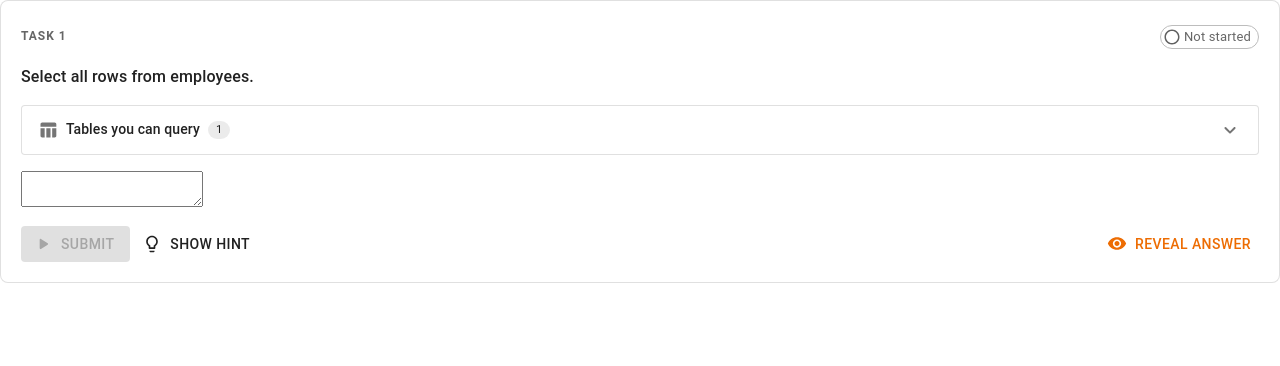
Test case: TaskCard — hint › toggles the hint text
expect the text "Use SELECT * FROM employees." is not shown: met
Click the button "Show hint": (198, 244) 138,226 -> 258,262
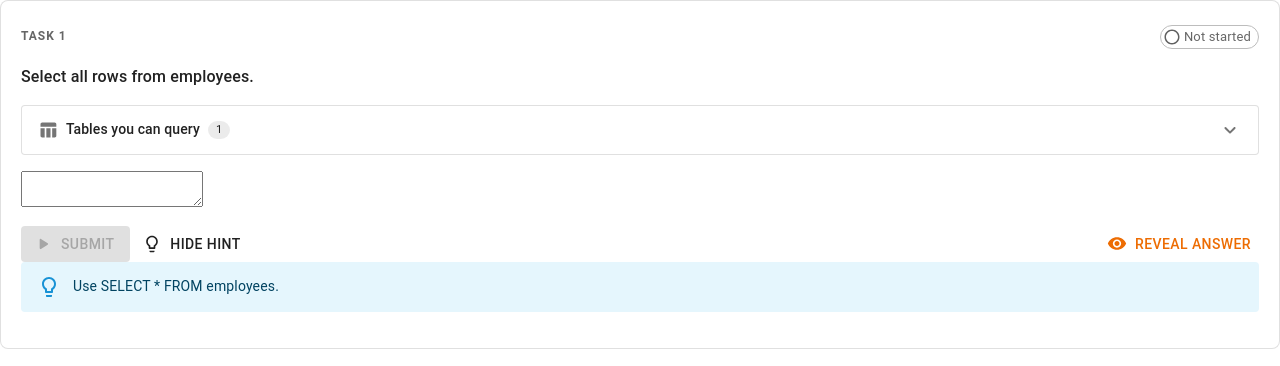
expect the text "Use SELECT * FROM employees." is shown: met, box 73,278 -> 279,294
Click the button "Hide hint": (193, 244) 138,226 -> 248,262
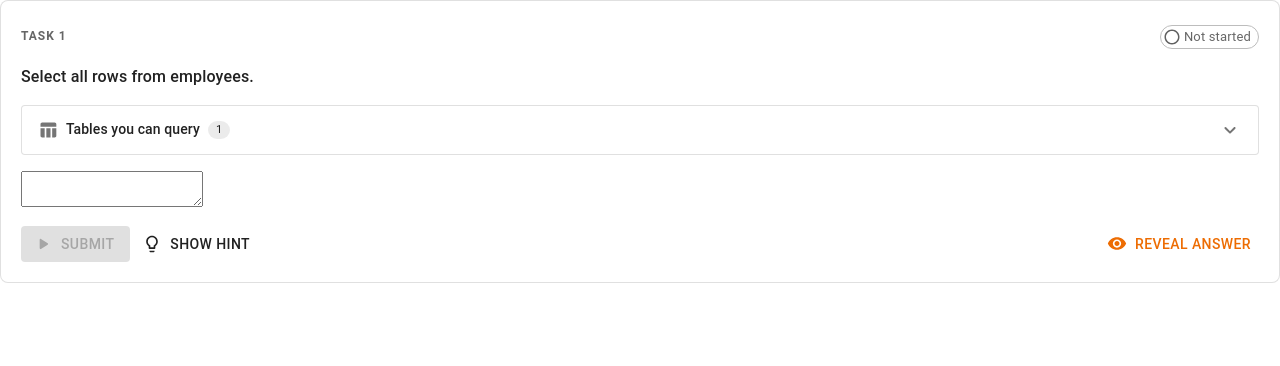
expect the text "Use SELECT * FROM employees." is gone: met
